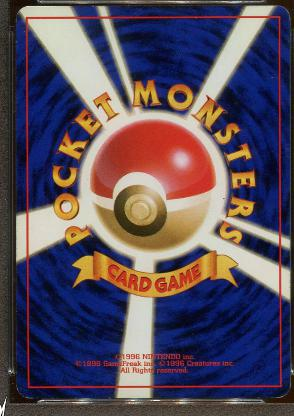Card: (12, 3, 292, 400)
Corner Wear: (255, 389, 288, 399), (15, 382, 35, 398), (13, 8, 20, 24)
Edge Wear: (14, 38, 17, 66), (104, 395, 113, 399), (74, 396, 83, 398), (51, 397, 59, 399), (89, 5, 95, 7)
Scratch: (268, 74, 274, 78)
